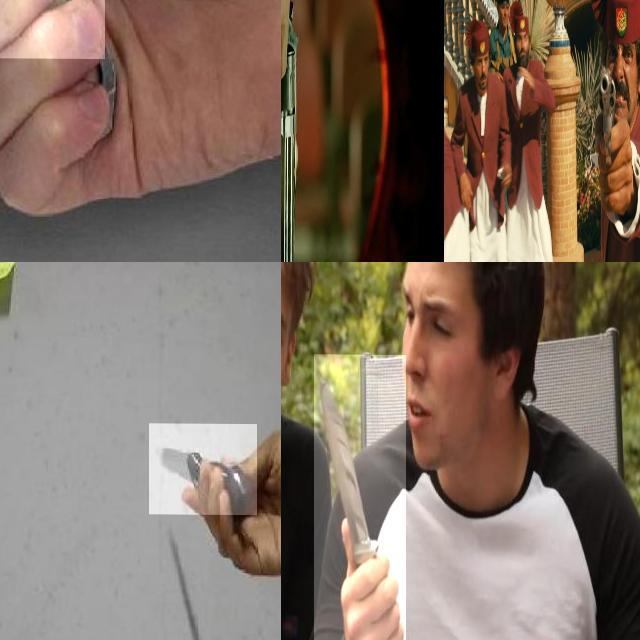-: (0, 0, 197, 199), (314, 353, 406, 640), (149, 422, 257, 514)
gun-knife-thesis - v11 Yolov5 augmented: (281, 0, 310, 261), (444, 0, 508, 96), (594, 64, 630, 220), (281, 0, 309, 76)
